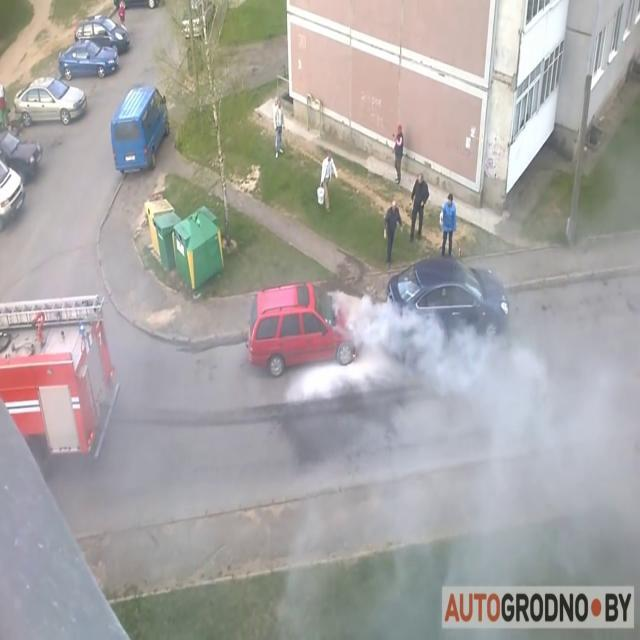Smoke: (345, 278, 640, 511)
